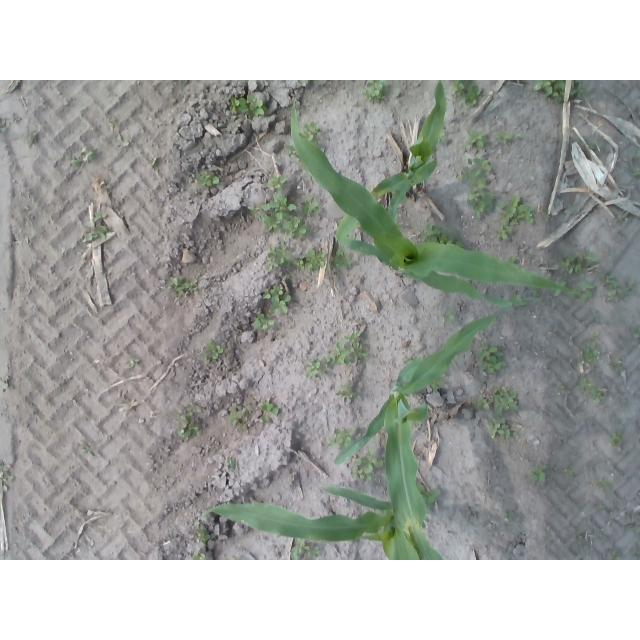Maize: (290, 103, 579, 306), (336, 304, 503, 541), (199, 484, 445, 560), (370, 80, 448, 224)
Weeds: (245, 193, 319, 240), (305, 331, 372, 380), (458, 158, 494, 220), (497, 194, 536, 241), (172, 401, 206, 443), (598, 269, 634, 305), (229, 92, 271, 121), (353, 447, 386, 483), (534, 81, 583, 104), (260, 282, 293, 316), (558, 247, 598, 272), (478, 342, 508, 374), (493, 382, 522, 415), (580, 331, 605, 368), (450, 80, 483, 108), (263, 243, 298, 269), (363, 81, 393, 108), (296, 249, 328, 274), (166, 277, 199, 300), (578, 379, 606, 406), (420, 224, 454, 244), (331, 377, 357, 402), (67, 145, 94, 168), (464, 126, 489, 150), (259, 400, 283, 425), (326, 428, 354, 449), (230, 406, 251, 433), (331, 249, 355, 272), (199, 342, 226, 362), (488, 419, 513, 440), (419, 485, 442, 507), (576, 282, 597, 306), (262, 173, 290, 191), (251, 313, 277, 332), (197, 171, 223, 190), (290, 537, 310, 560), (83, 226, 108, 244), (0, 463, 14, 494), (301, 120, 321, 141), (194, 522, 211, 546), (529, 465, 547, 484), (474, 396, 492, 413), (598, 478, 615, 494), (442, 310, 458, 327), (26, 130, 40, 148), (495, 133, 513, 146), (127, 355, 142, 370), (80, 445, 96, 459), (609, 359, 624, 373), (513, 295, 528, 309), (610, 430, 622, 446), (432, 380, 448, 392), (608, 549, 625, 560), (117, 133, 130, 147), (624, 524, 640, 535), (225, 457, 237, 471), (92, 212, 107, 223), (630, 324, 640, 340), (284, 143, 297, 155), (0, 118, 8, 136), (190, 552, 208, 560), (555, 383, 569, 393), (315, 80, 330, 89), (629, 546, 640, 558), (565, 465, 576, 477), (311, 546, 322, 558), (619, 212, 630, 223), (630, 150, 640, 162), (108, 118, 117, 131), (531, 288, 542, 298), (506, 512, 515, 524), (596, 501, 605, 512), (590, 139, 599, 150), (554, 281, 568, 288), (150, 156, 158, 168), (576, 535, 585, 545), (633, 167, 640, 178), (455, 241, 466, 248), (514, 132, 522, 140), (544, 213, 550, 223), (553, 290, 561, 297), (508, 257, 516, 263), (626, 514, 631, 523)
